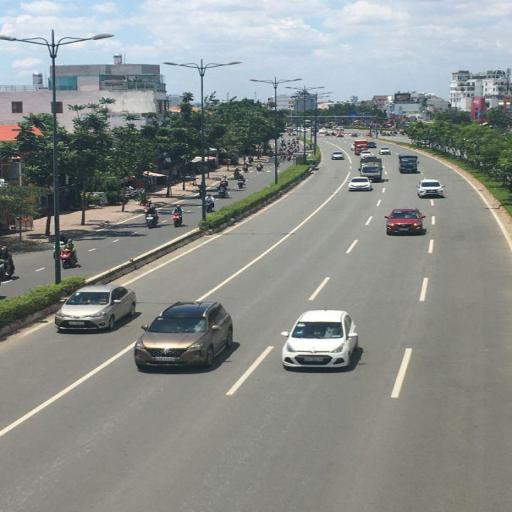car: (134, 300, 238, 373), (283, 312, 363, 372), (55, 285, 140, 334), (385, 206, 427, 236), (418, 179, 446, 199), (360, 164, 381, 182), (348, 178, 372, 192), (331, 152, 344, 162), (378, 148, 391, 156)
motorcycle: (0, 245, 16, 280), (60, 244, 80, 268)
truck: (399, 154, 418, 174)
